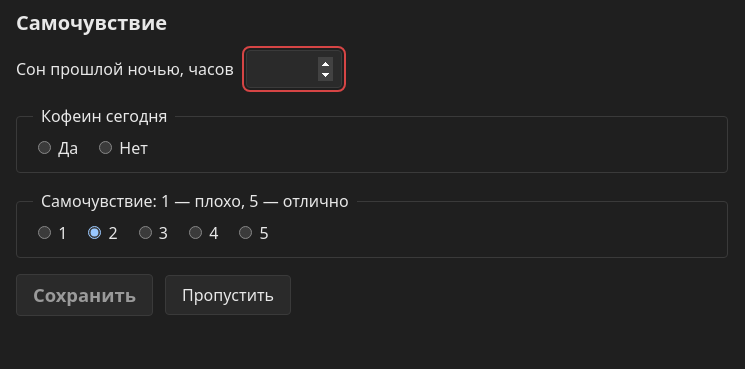
Test case: Wellbeing › caffeine needs an explicit answer; sleep must be 0–14 in half hours
Earlier steps of the test are not shown.
Later steps or results of the test are not shown.
Step 1. Type "8" into the number field labelled "Сон прошлой ночью, часов" → coordinates (294, 69), box [246, 50, 342, 88]
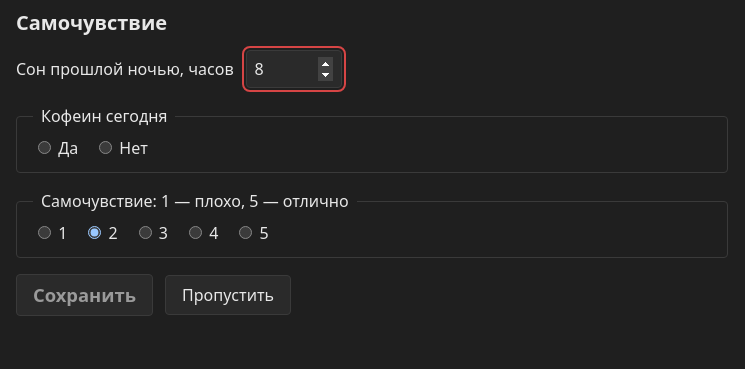
Expected: the button "Сохранить" is disabled, [16, 274, 153, 316]
Step 2. Click the radio button labelled "Нет" → coordinates (106, 148), box [99, 141, 112, 154]
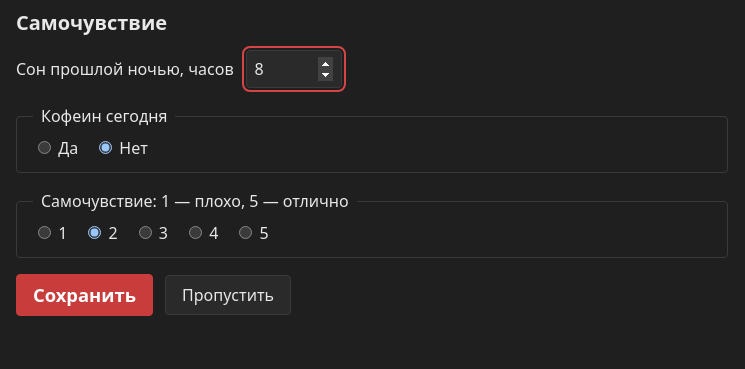
Expected: the button "Сохранить" is enabled, [16, 274, 153, 316]
Step 3. Replace the text in the number field labelled "Сон прошлой ночью, часов" with "15" → coordinates (294, 69), box [246, 50, 342, 88]
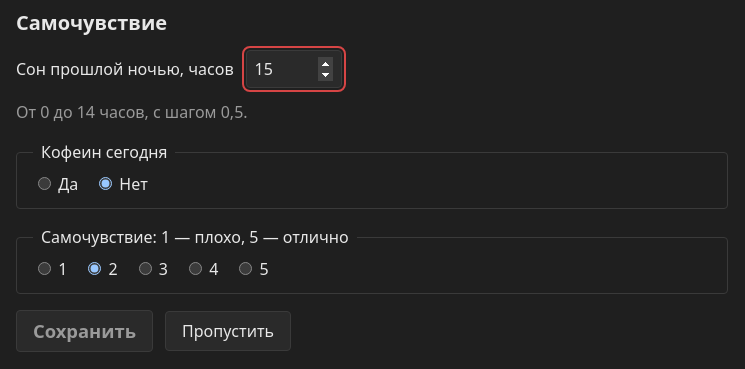
Expected: the button "Сохранить" is disabled, [16, 310, 153, 352]
Step 4. Replace the text in the number field labelled "Сон прошлой ночью, часов" with "-1" → coordinates (294, 69), box [246, 50, 342, 88]
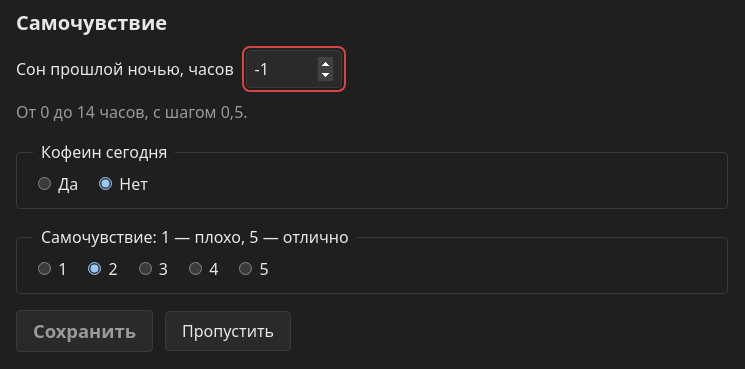
Expected: the button "Сохранить" is disabled, [16, 310, 153, 352]
Step 5. Replace the text in the number field labelled "Сон прошлой ночью, часов" with "7.3" → coordinates (294, 69), box [246, 50, 342, 88]
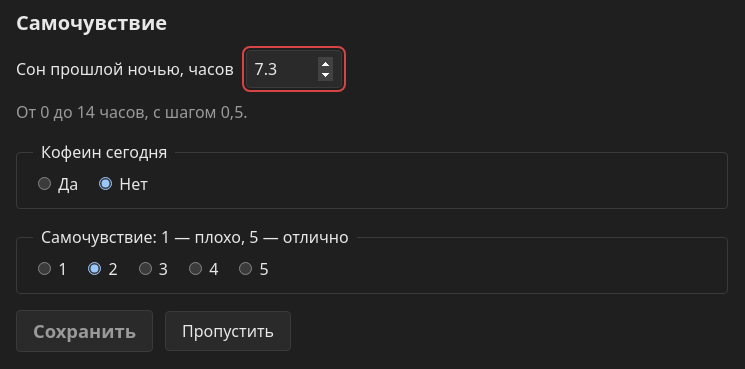
Expected: the button "Сохранить" is disabled, [16, 310, 153, 352]
Step 6. Clear the number field labelled "Сон прошлой ночью, часов" → coordinates (294, 69), box [246, 50, 342, 88]
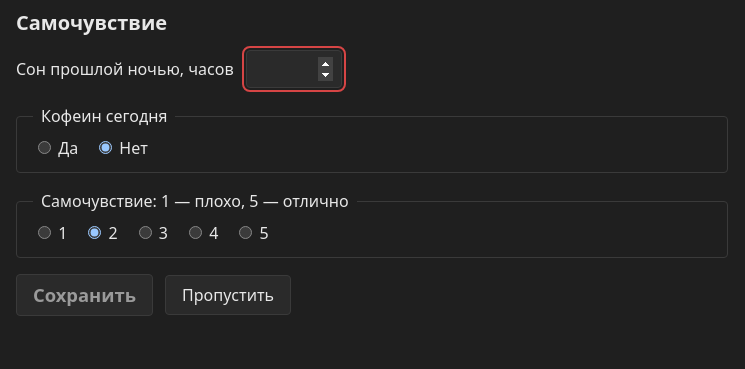
Expected: the button "Сохранить" is disabled, [16, 274, 153, 316]
